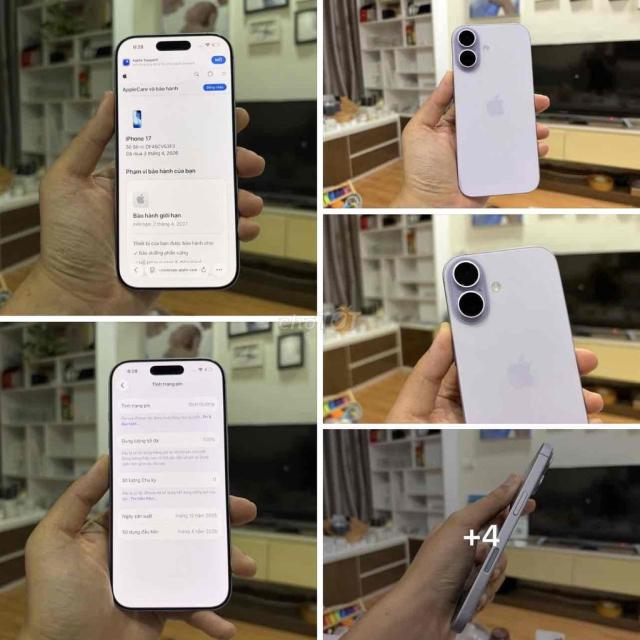gen_17: (104, 23, 246, 293)
